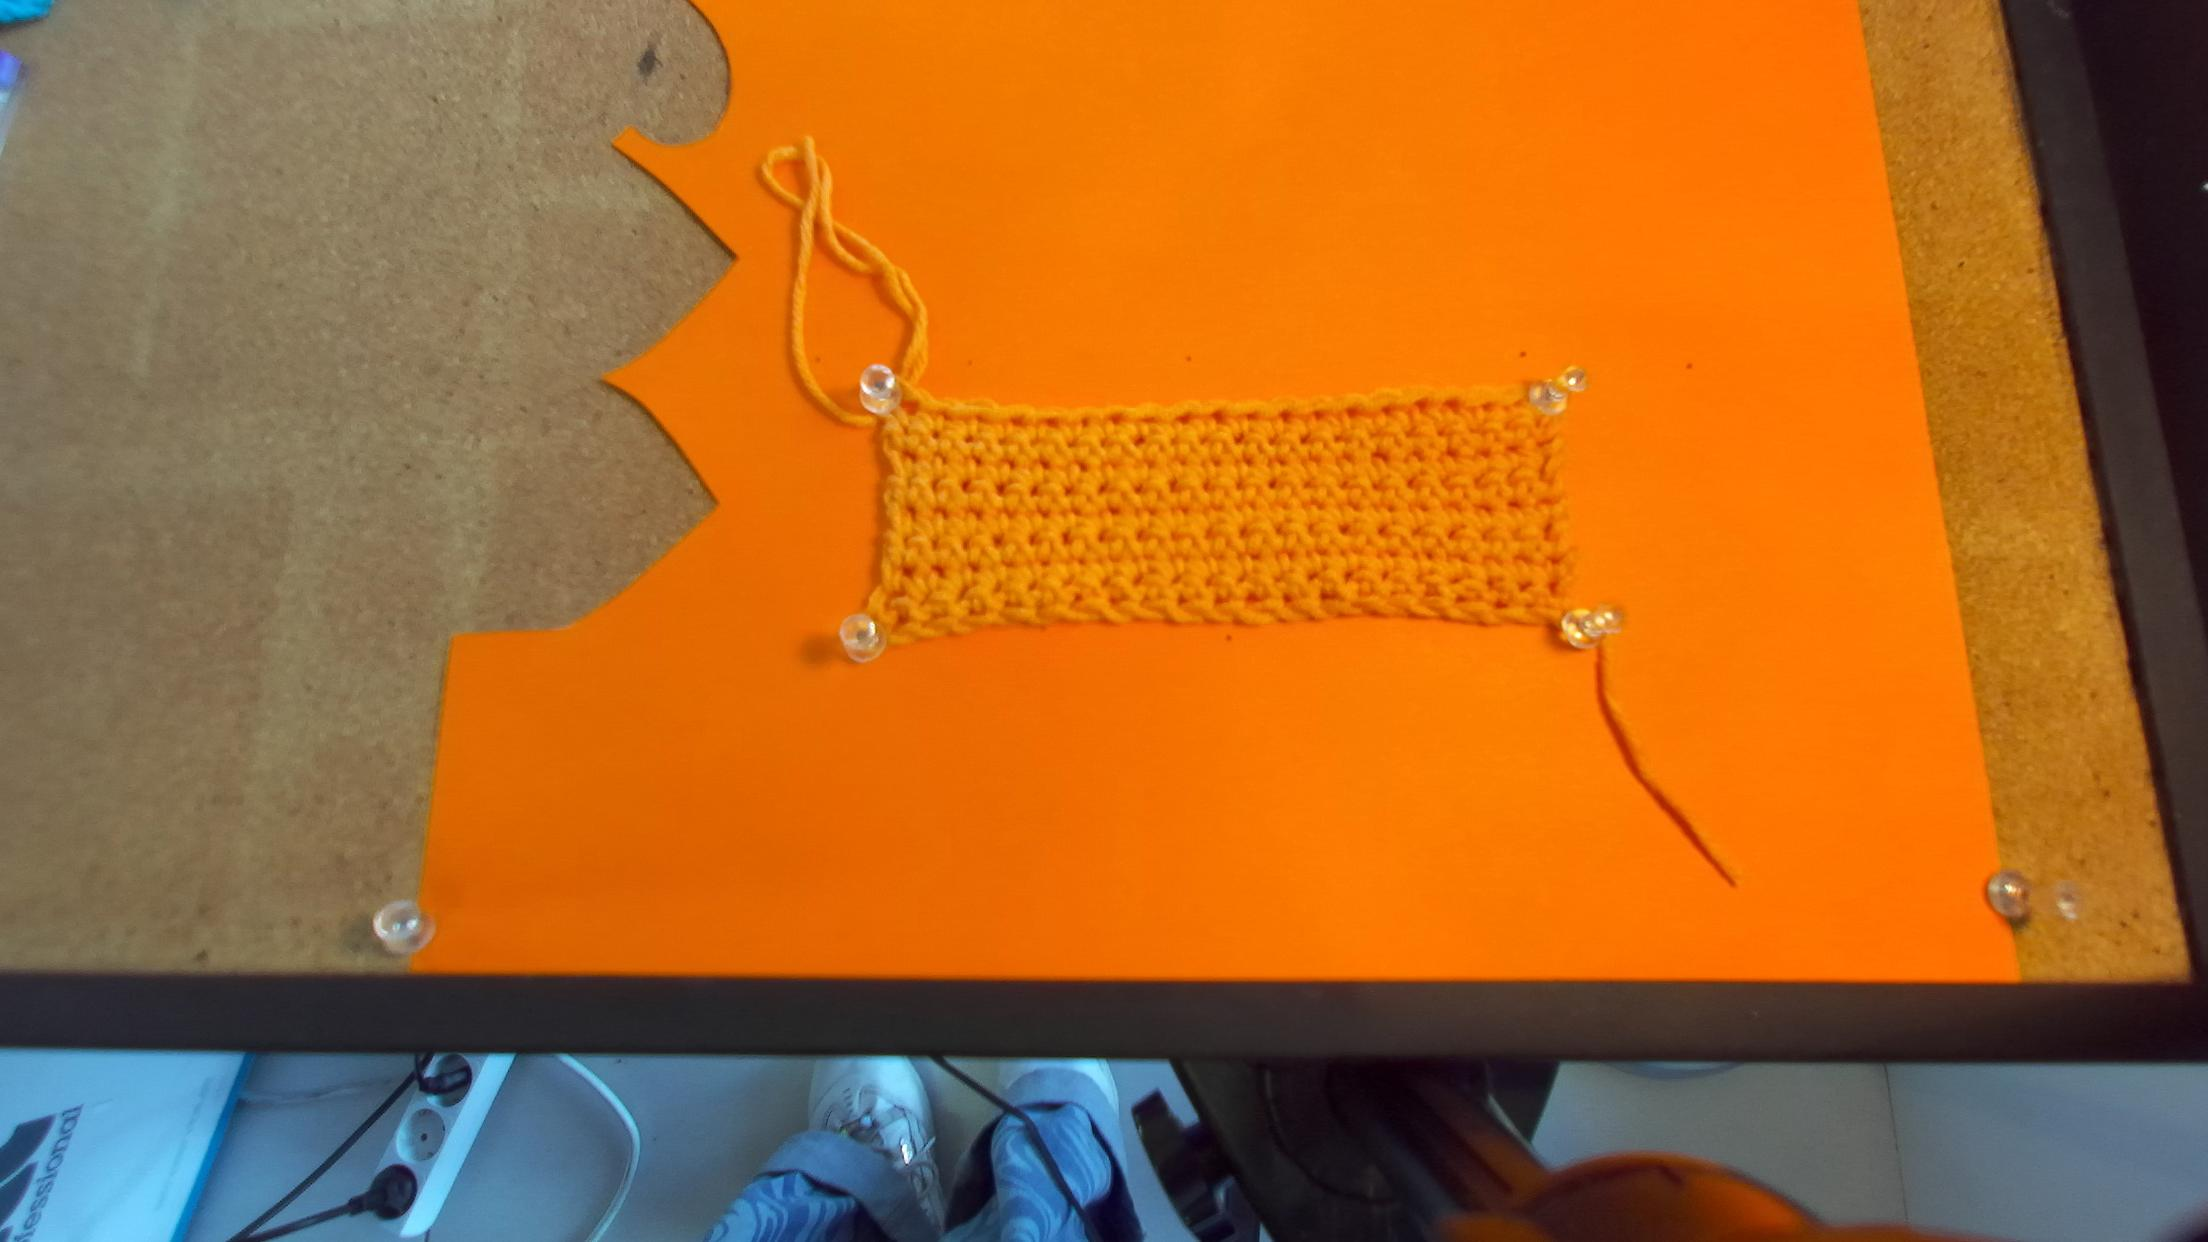hole: (899, 400, 918, 415), (1209, 409, 1226, 425), (1414, 396, 1430, 413), (1173, 411, 1191, 425), (975, 412, 992, 425), (940, 409, 954, 423), (1009, 414, 1024, 427), (1138, 416, 1159, 425), (1311, 409, 1325, 422), (1279, 408, 1291, 423), (1344, 406, 1359, 418), (1378, 403, 1392, 415), (1443, 398, 1457, 410), (1509, 400, 1524, 411), (1108, 413, 1120, 426), (1045, 417, 1059, 428), (1247, 410, 1259, 421), (1081, 416, 1089, 429), (1482, 401, 1492, 411)
swatch: (853, 373, 1613, 652)
